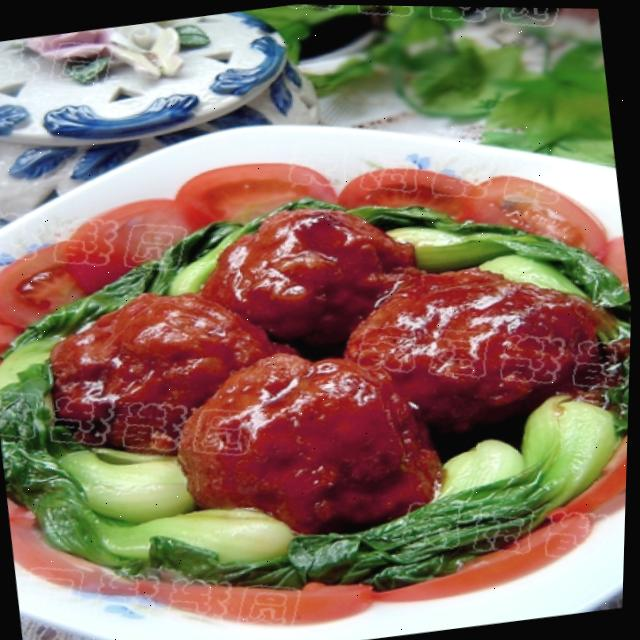猪肉菜式: (0, 67, 638, 640)
